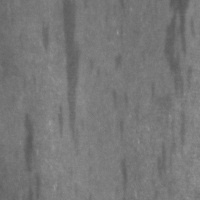inclusion: (167, 1, 192, 162), (56, 1, 83, 138), (18, 111, 44, 199), (148, 138, 172, 187), (116, 155, 132, 200), (109, 86, 131, 114), (37, 16, 52, 57), (112, 50, 128, 73), (116, 118, 129, 145)
